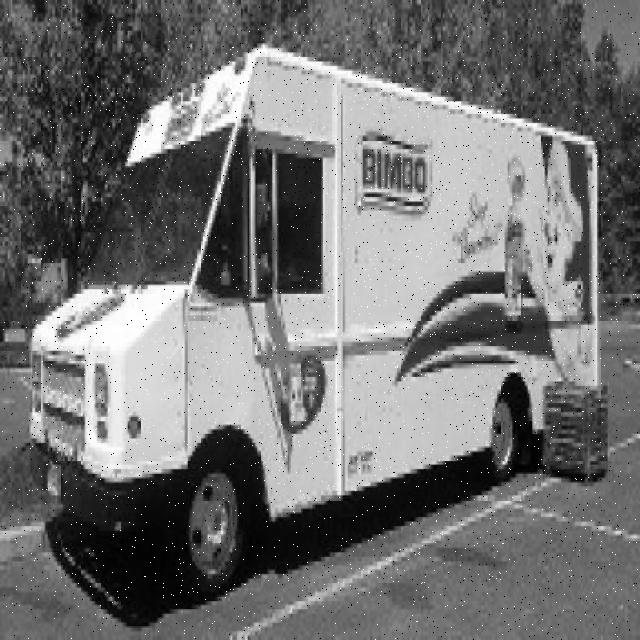Box Truck: (28, 49, 603, 600)
